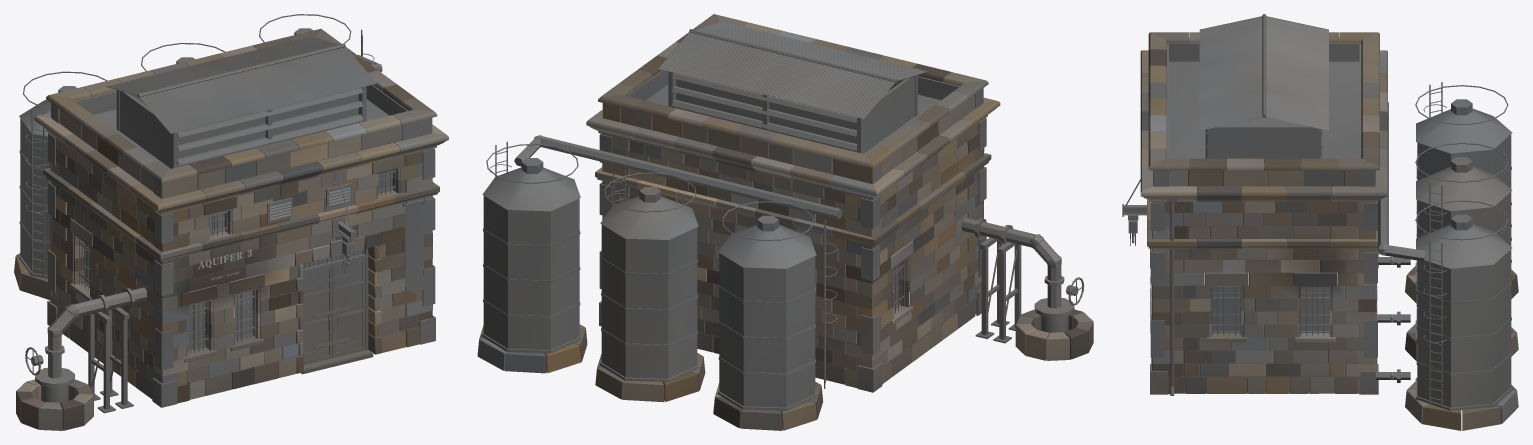
The model's file is Aquifer3_LOD1.glb.
3 renders of one model, left to right at view 1: azimuth 30°, elevation 25°; view 2: azimuth 150°, elevation 25°; view 3: azimuth 270°, elevation 25°, orthographic.
Visible parts, largest first — view 1: Aquifer3_Masonry_LOD1, Aquifer3_Metal_LOD1, Aquifer3_Trim_LOD1, Aquifer3_Roof_LOD1, Aquifer3_Porch_LOD1, Aquifer3_Glass_LOD1, Aquifer3_Canvas_LOD1; view 2: Aquifer3_Metal_LOD1, Aquifer3_Masonry_LOD1, Aquifer3_Trim_LOD1, Aquifer3_Roof_LOD1, Aquifer3_Porch_LOD1; view 3: Aquifer3_Metal_LOD1, Aquifer3_Masonry_LOD1, Aquifer3_Trim_LOD1, Aquifer3_Roof_LOD1, Aquifer3_Porch_LOD1, Aquifer3_Glass_LOD1, Aquifer3_Hardware_LOD1.
Boxes of the visible parts, left/top/right/bottom form: Aquifer3_Masonry_LOD1: left=50, top=85, right=432, bottom=403; Aquifer3_Metal_LOD1: left=18, top=14, right=435, bottom=413; Aquifer3_Trim_LOD1: left=34, top=28, right=448, bottom=373; Aquifer3_Roof_LOD1: left=93, top=36, right=388, bottom=169; Aquifer3_Porch_LOD1: left=14, top=253, right=373, bottom=430; Aquifer3_Glass_LOD1: left=84, top=173, right=392, bottom=349; Aquifer3_Canvas_LOD1: left=405, top=201, right=424, bottom=294; Aquifer3_Metal_LOD1: left=482, top=29, right=1084, bottom=410; Aquifer3_Masonry_LOD1: left=602, top=70, right=984, bottom=388; Aquifer3_Trim_LOD1: left=586, top=14, right=1000, bottom=324; Aquifer3_Roof_LOD1: left=646, top=21, right=940, bottom=154; Aquifer3_Porch_LOD1: left=477, top=309, right=1093, bottom=430; Aquifer3_Metal_LOD1: left=1122, top=14, right=1512, bottom=410; Aquifer3_Masonry_LOD1: left=1151, top=37, right=1376, bottom=394; Aquifer3_Trim_LOD1: left=1140, top=32, right=1387, bottom=363; Aquifer3_Roof_LOD1: left=1169, top=16, right=1359, bottom=161; Aquifer3_Porch_LOD1: left=1405, top=266, right=1518, bottom=430; Aquifer3_Glass_LOD1: left=1211, top=186, right=1329, bottom=330; Aquifer3_Hardware_LOD1: left=1430, top=91, right=1441, bottom=400.
Bounding box in the file's own units: 16.11 × 8.63 × 11.64.
